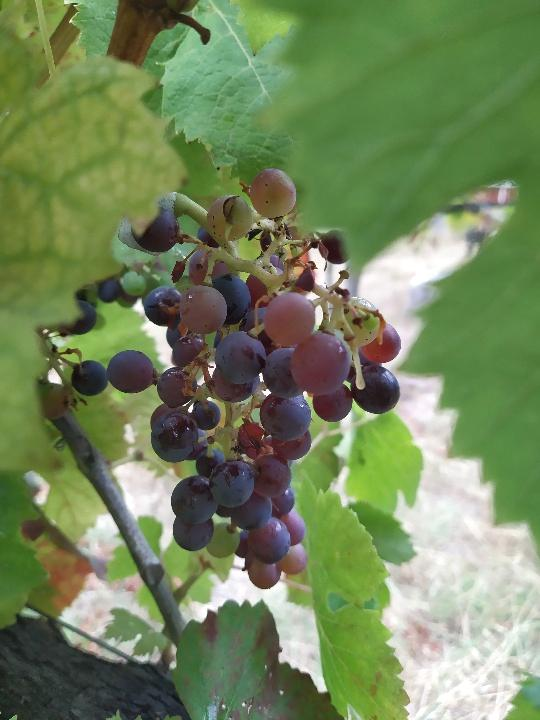grape: (69, 163, 408, 595)
